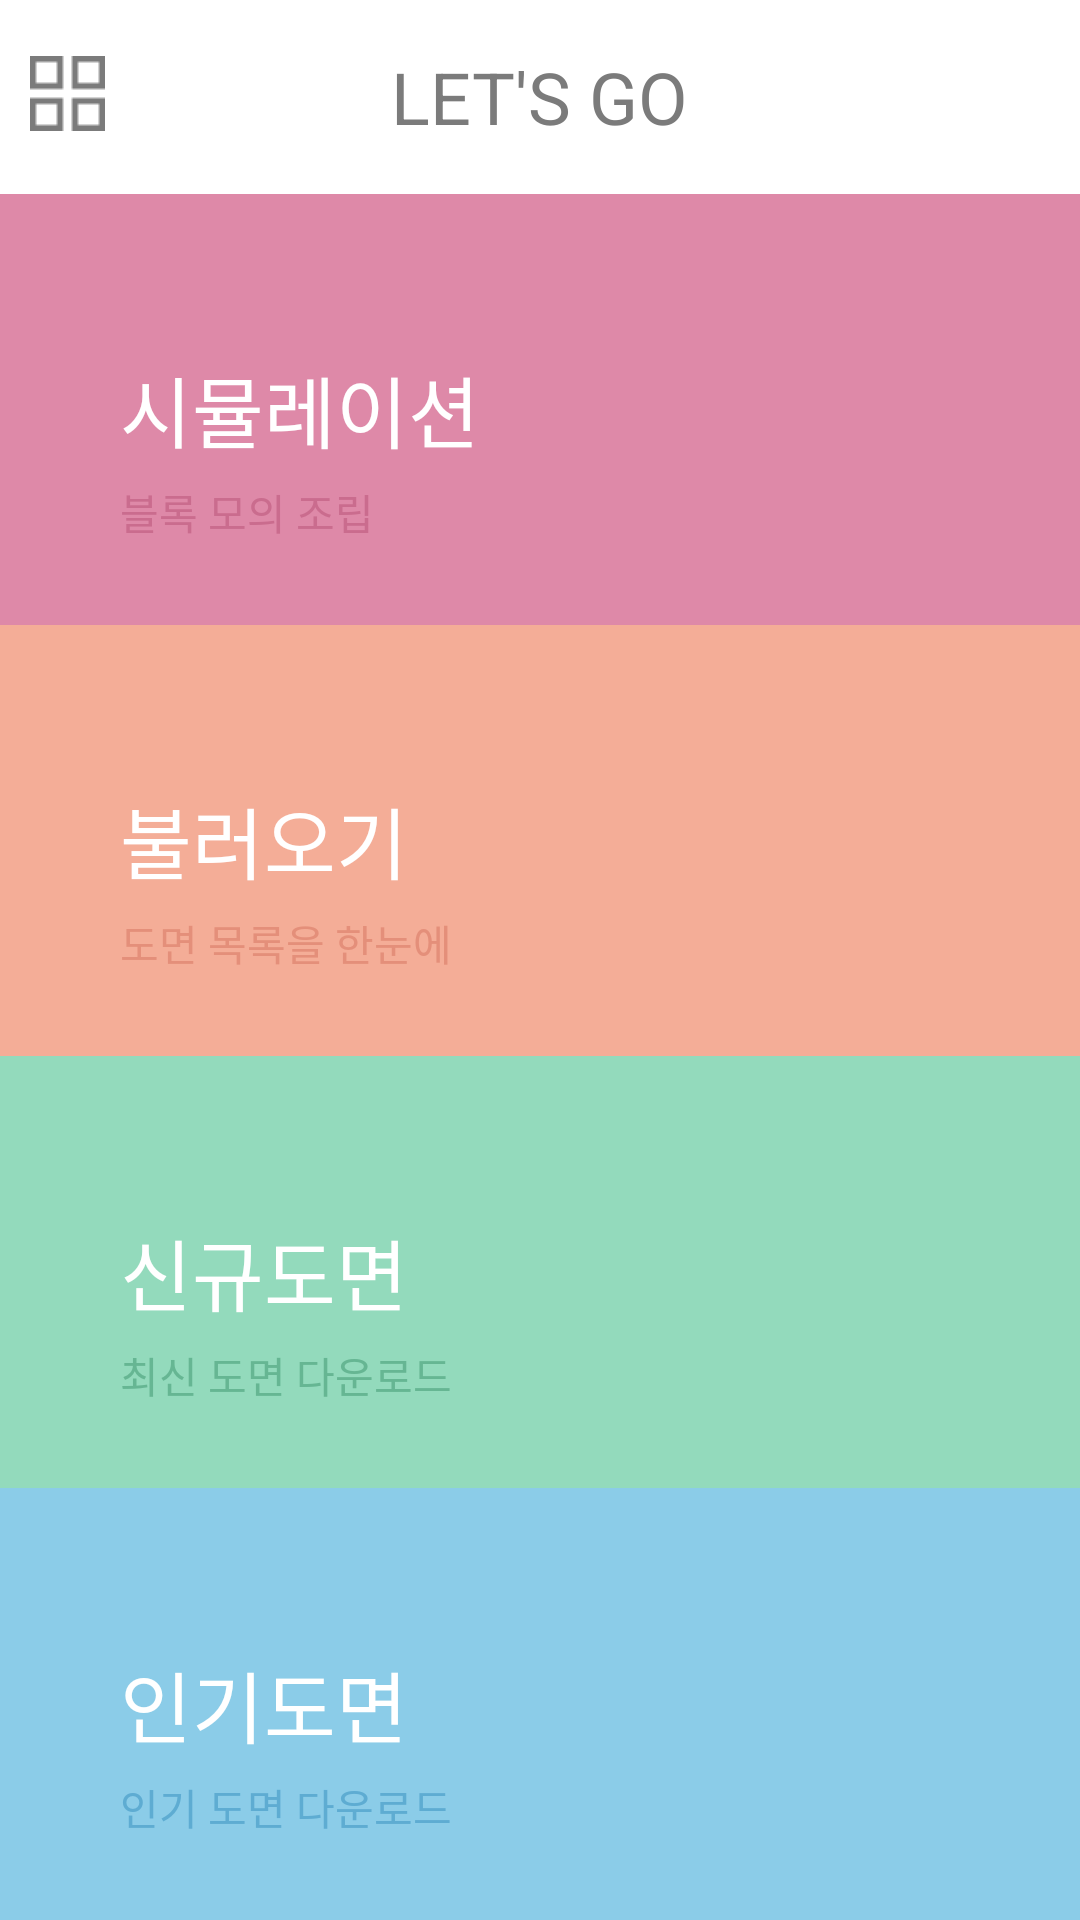

Icons on this 1080 × 1920 Android screen, each with its box as (x1, y1, x2, y2):
menubutton: (30, 56, 105, 131)
